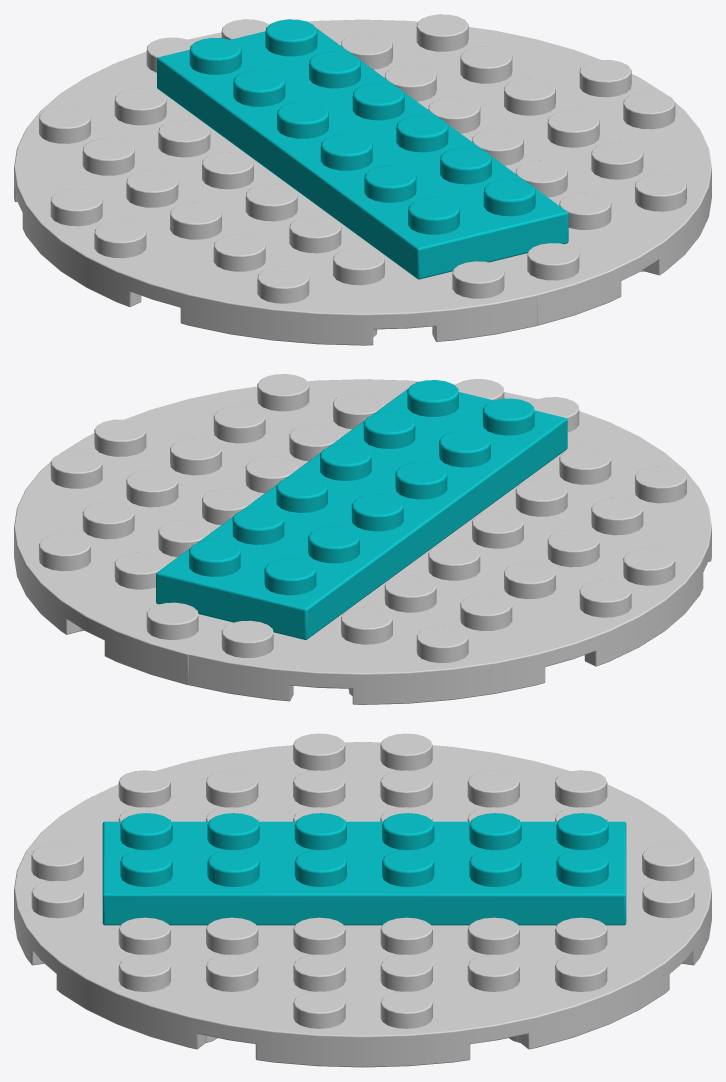
File: Passo 2.fbx
The picture shows the model from 3 angles, top to bottom: view 1: azimuth 30°, elevation 25°; view 2: azimuth 150°, elevation 25°; view 3: azimuth 270°, elevation 25°; orthographic projection.
Visible parts, largest first — view 1: Plate_round_4x8_1, Plate_round_4x8.001, Plate_2x6.001; view 2: Plate_round_4x8_1, Plate_round_4x8.001, Plate_2x6.001; view 3: Plate_round_4x8.001, Plate_2x6.001, Plate_round_4x8_1.
Part boxes in pixels (left/top/right/bottom): Plate_round_4x8_1: left=14, top=37, right=537, bottom=345; Plate_round_4x8.001: left=189, top=14, right=711, bottom=325; Plate_2x6.001: left=157, top=19, right=568, bottom=279; Plate_round_4x8_1: left=188, top=397, right=711, bottom=704; Plate_round_4x8.001: left=14, top=374, right=535, bottom=685; Plate_2x6.001: left=156, top=380, right=567, bottom=639; Plate_round_4x8.001: left=14, top=880, right=711, bottom=1067; Plate_2x6.001: left=102, top=813, right=626, bottom=925; Plate_round_4x8_1: left=14, top=733, right=711, bottom=919.
Bounding box in the file's own units: 0.6392 × 0.0799 × 0.6399.
